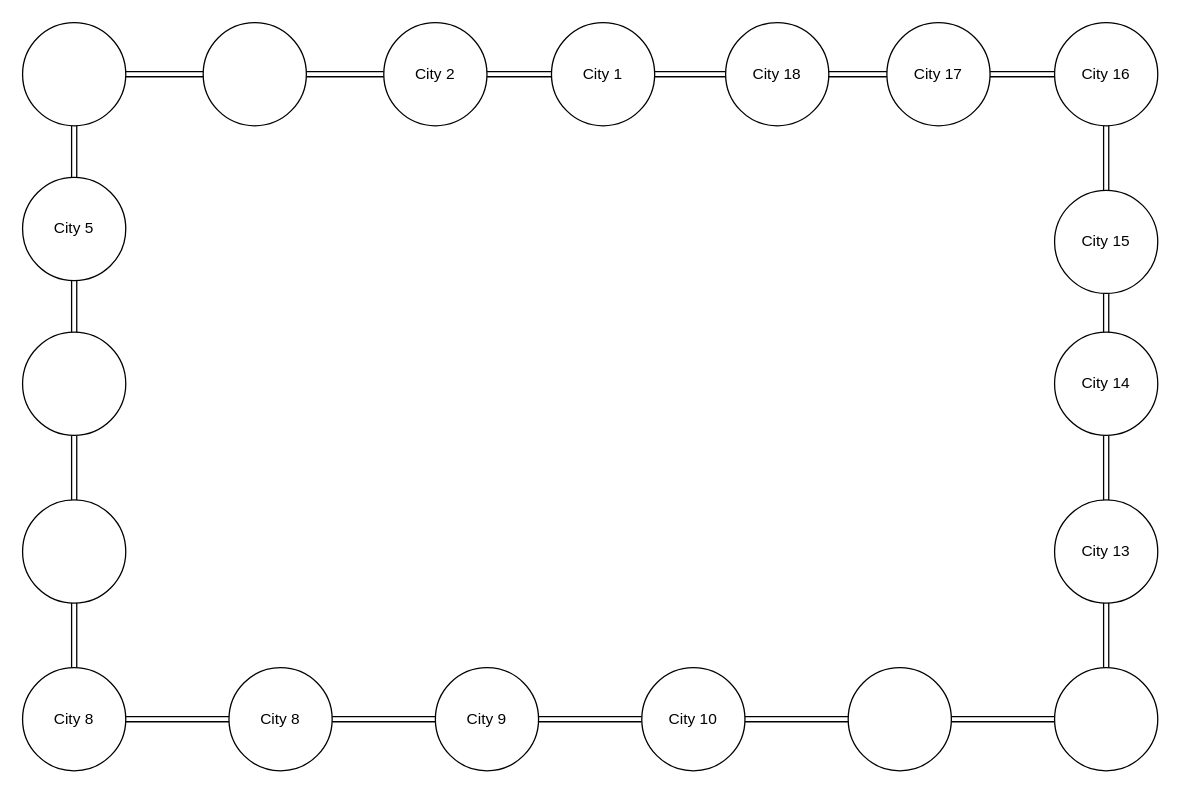
The diagram is 1180 pixels wide and 793 high, and some of its shapes have lost their labels. Here are the shapes that lost their labels. From the top down, the centre of each, then its label:
(73,73): City 4
(254,73): City 3
(73,383): City 6
(73,551): City 7
(899,718): City 11
(1105,718): City 12
